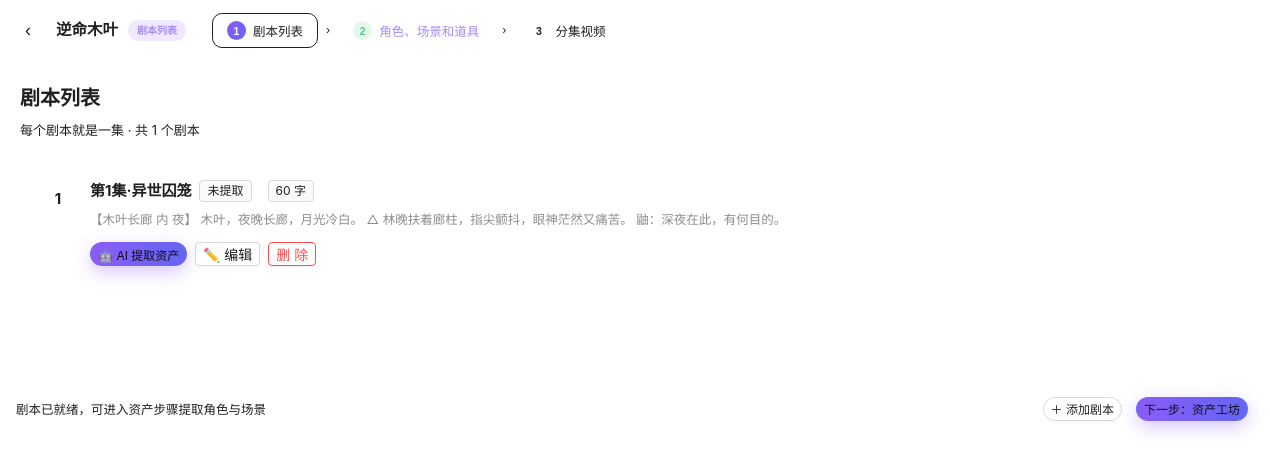
ScriptsPage 剧本列表 › 点 AI 提取资产走真实链路：等待 → 已提取
Click the button "🤖 AI 提取资产" at (139, 254), box [90, 242, 187, 266]
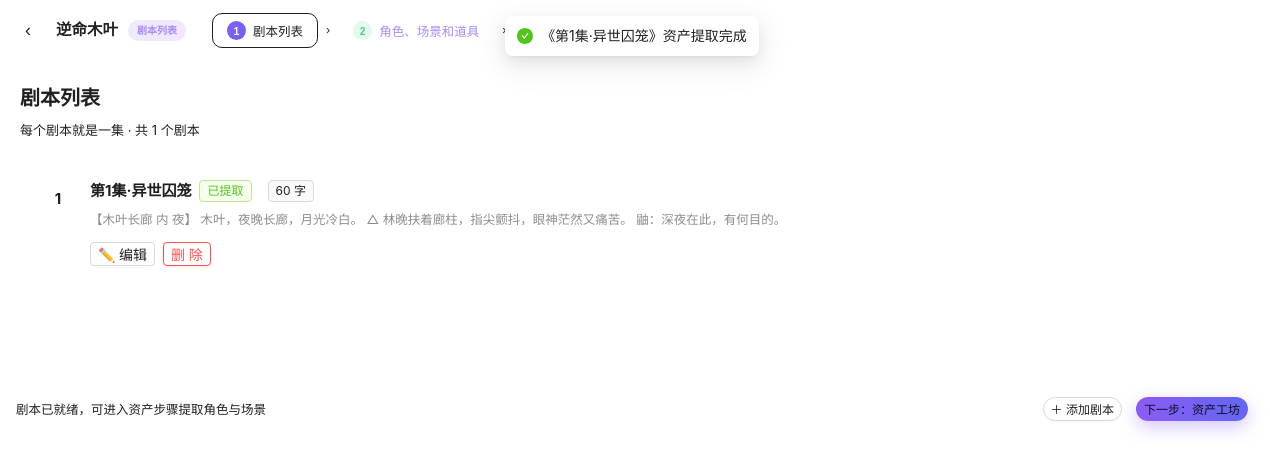
Check: the text "已提取" is shown, box [200, 180, 252, 202]
Check: the text "《第1集·异世囚笼》资产提取完成" is shown, box [541, 25, 747, 47]
